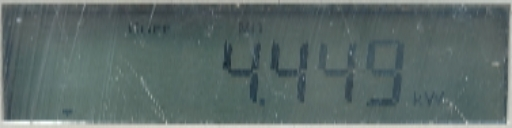4: (218, 24, 262, 108), (319, 33, 356, 105), (270, 33, 306, 106)
9: (363, 28, 409, 110)
d: (258, 90, 270, 107)
